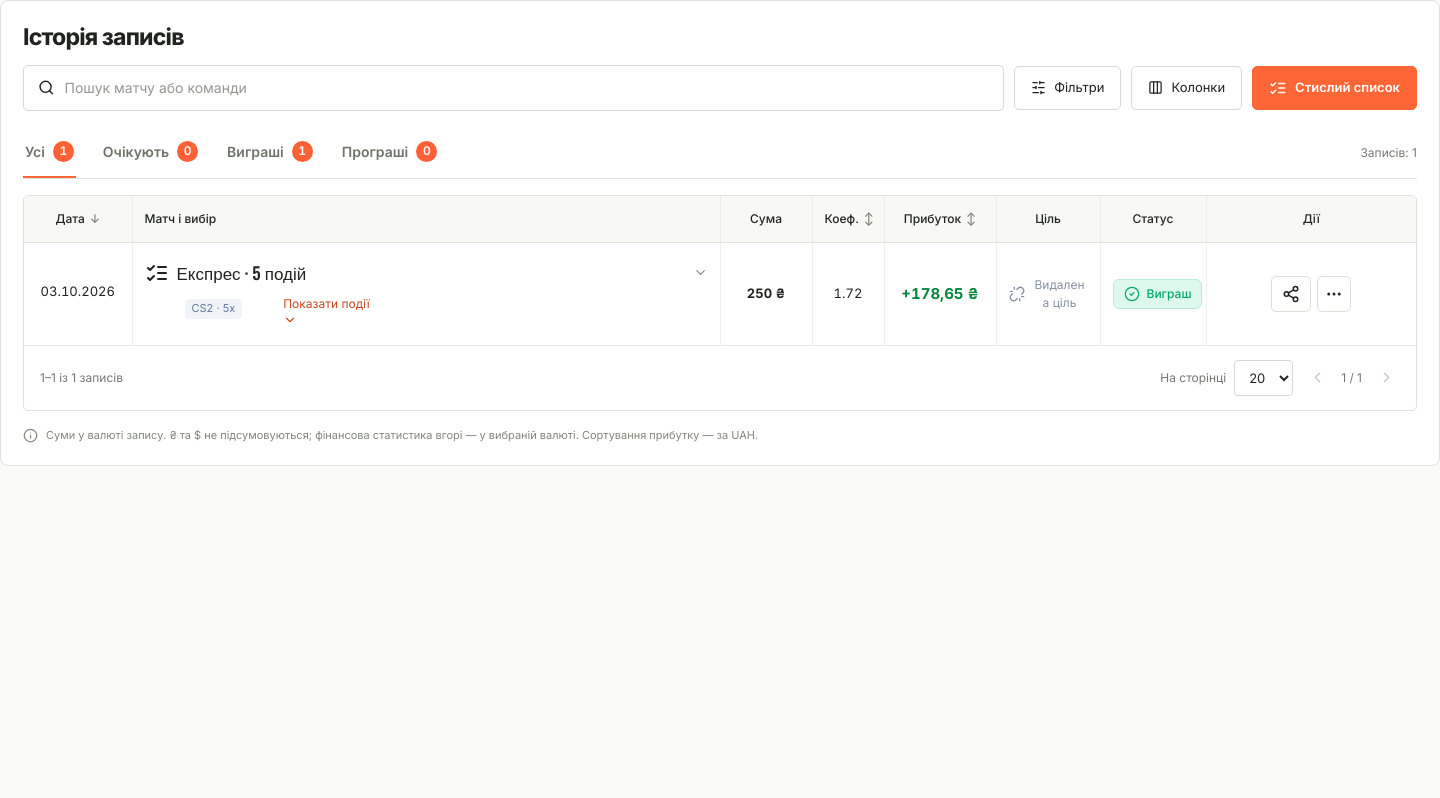
Test: full-width journal › shows strategy and saved notes for express records
This screenshot has width=1440, height=798.
Click the button "Експрес · 5 подій CS2 · 5x Показати події".
click(212, 272)  # box [144,261,708,327]
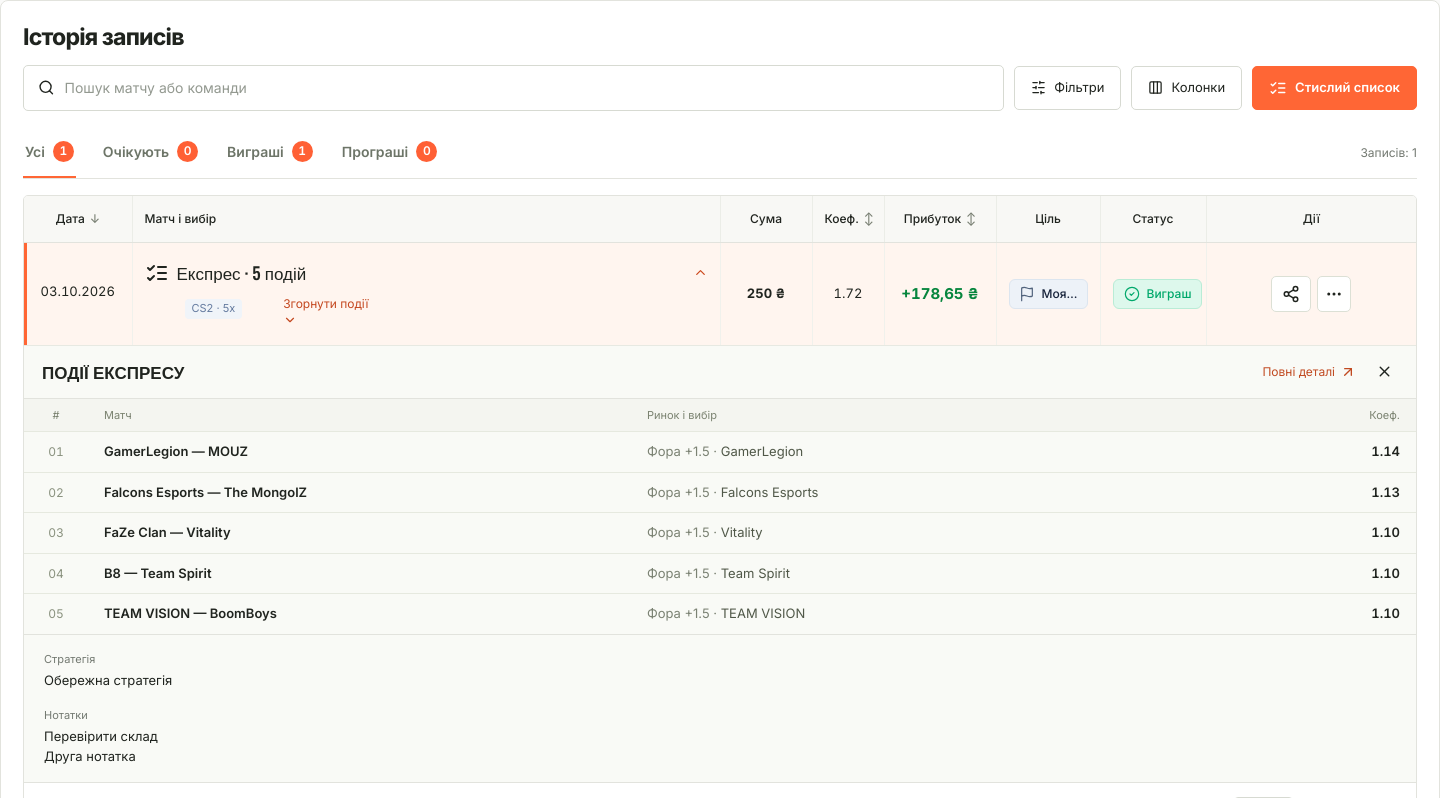
Check: the text "Обережна стратегія" is shown, box [44,671,172,691]
Check: the text "Перевірити склад Друга нотатка" is shown, box [44,728,158,764]
